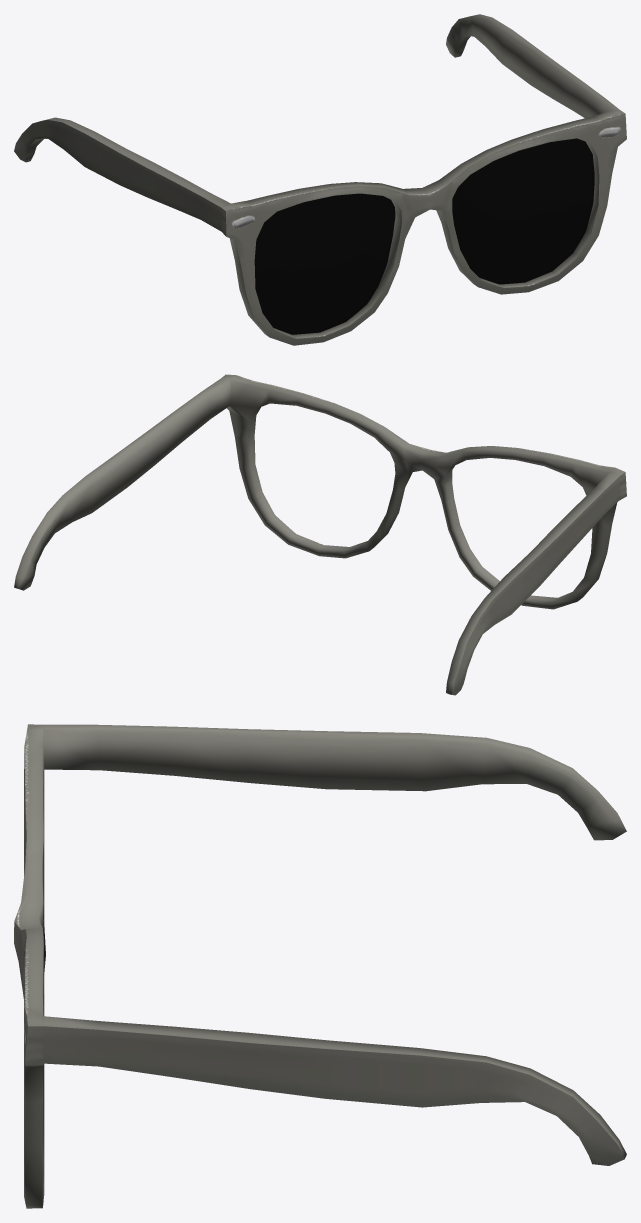
3 views of the same model, one above another, from view 1: azimuth 30°, elevation 25°; view 2: azimuth 150°, elevation 25°; view 3: azimuth 270°, elevation 25° (orthographic). The views are drawn at different scales.
Visible parts, largest first — view 1: Wolf3D_Glasses; view 2: Wolf3D_Glasses; view 3: Wolf3D_Glasses.
Boxes of the visible parts, x1=… form: Wolf3D_Glasses: x1=14, y1=14, x2=626, y2=345; Wolf3D_Glasses: x1=14, y1=374, x2=626, y2=695; Wolf3D_Glasses: x1=14, y1=724, x2=626, y2=1208.
Size of the model in its own units: 0.1654 by 0.0562 by 0.129.
1 material, 1 textured.
